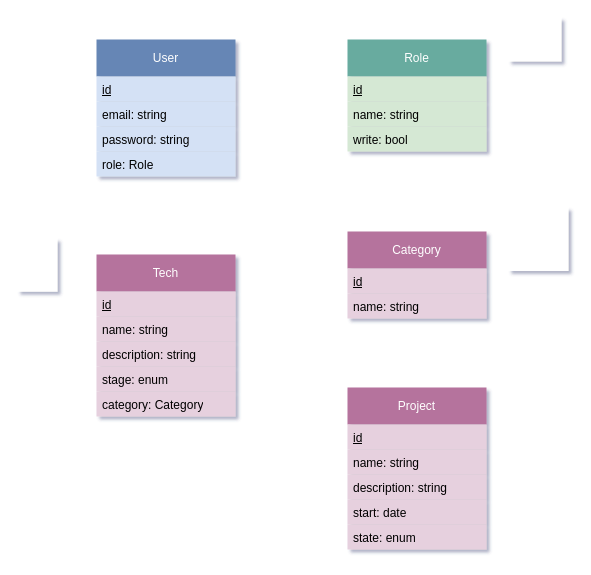
The diagram is 591 pixels wide and 575 high, and some of its shapes have lost their labels. Each missing label, with the centre of its shape:
"Frameworks Tools Languages Platforms Techniques" belongs at point 538,238.
"Hold Assess Trial Adopt" belongs at point 37,264.
"User CTO Tech-Lead Admin" belongs at point 534,39.
